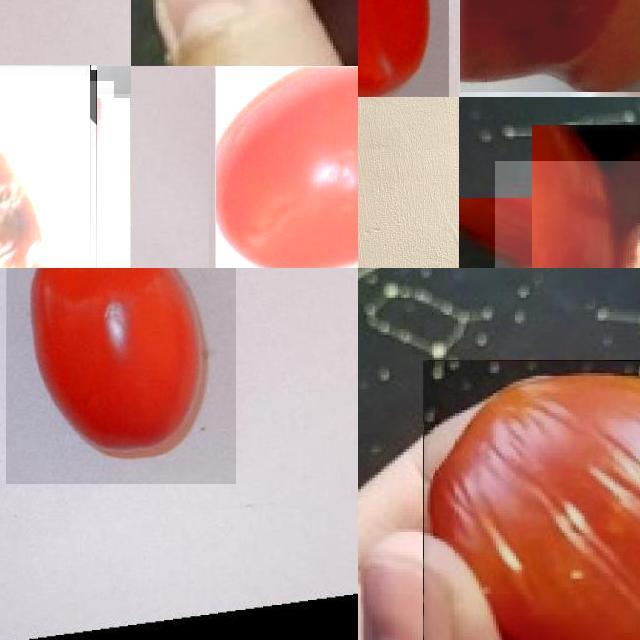1: (423, 360, 640, 640)
Fresh Tomato: (5, 268, 236, 484), (215, 66, 358, 268)
Rotten Tomato: (0, 81, 114, 268), (459, 0, 640, 92), (495, 161, 640, 268)
